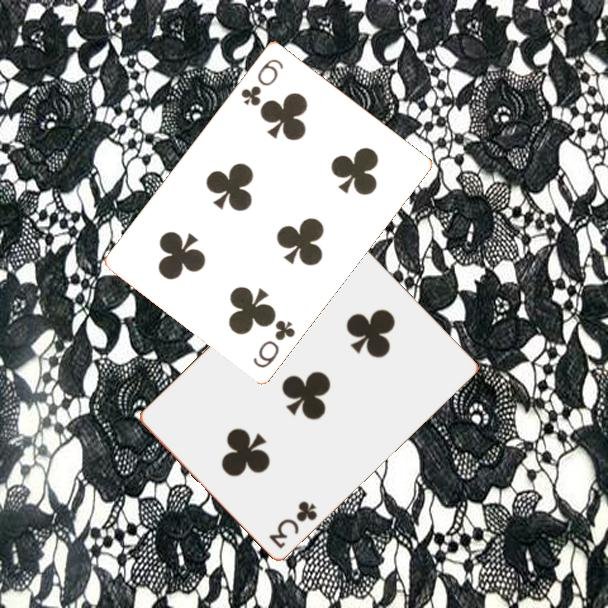c03: (265, 497, 320, 551)
c06: (249, 316, 298, 371), (237, 55, 286, 109)
